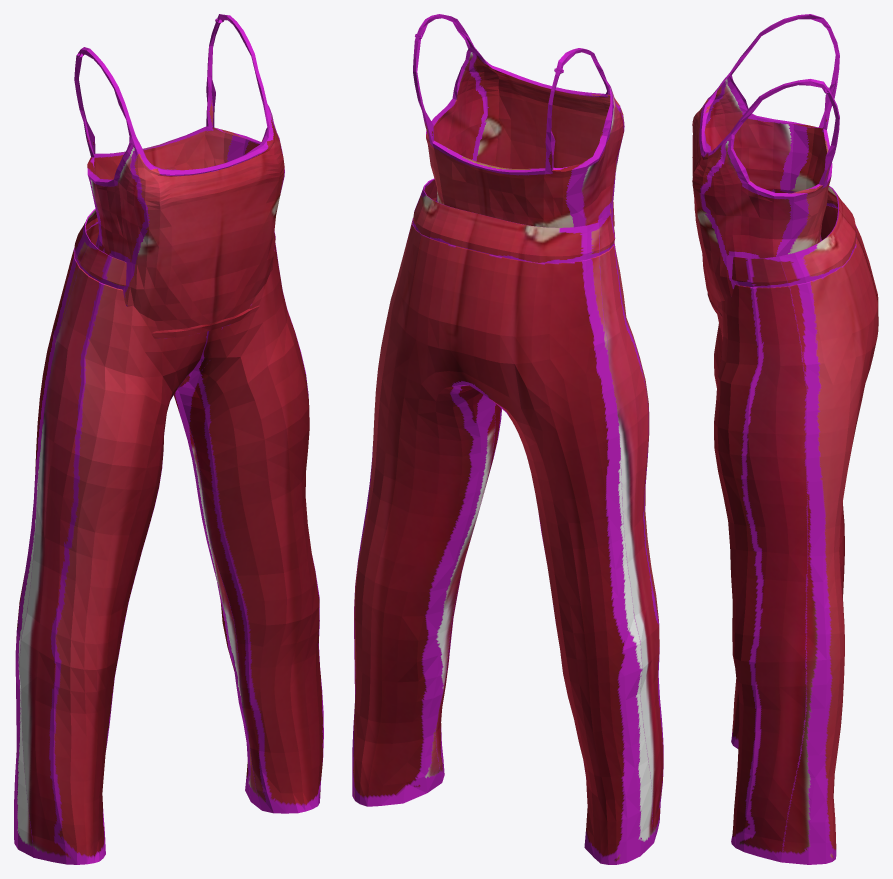
3 views of the same model, side by side, from view 1: azimuth 30°, elevation 25°; view 2: azimuth 150°, elevation 25°; view 3: azimuth 270°, elevation 25° (orthographic). The views are drawn at different scales.
Bounding box in the file's own units: 0.3587 × 0.9433 × 0.2108.
1 material, 1 textured.
